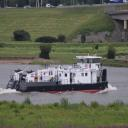tugboat: (7, 54, 111, 96)
